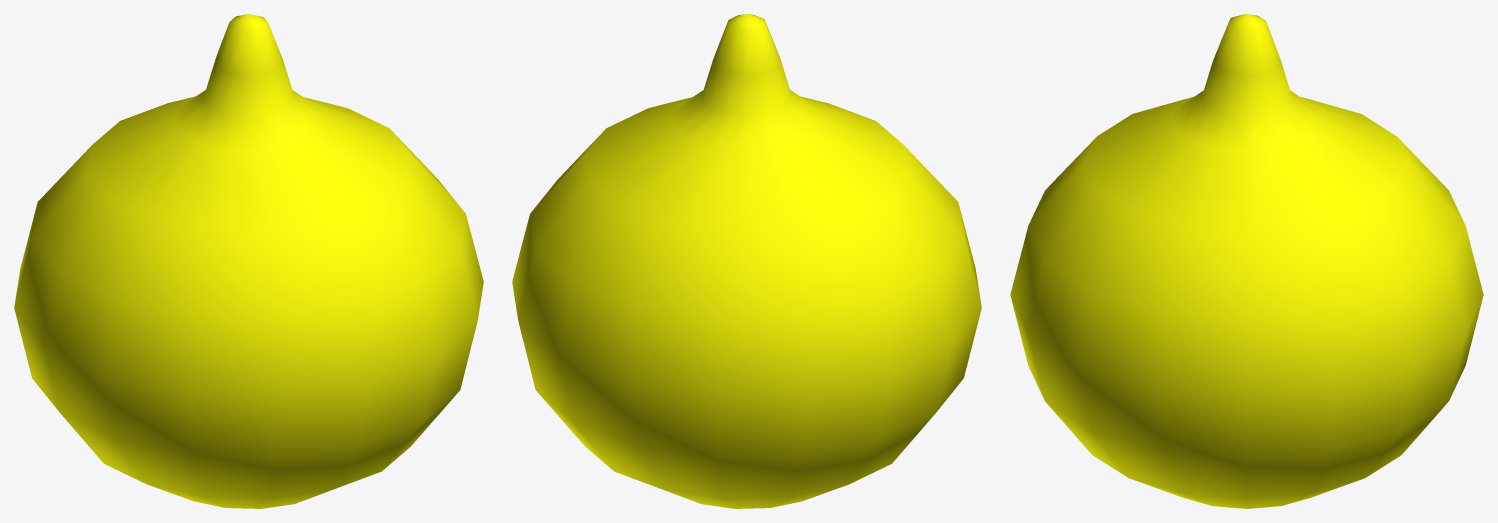
The model's file is food_ingredient_onion.gltf.
3 views of the same model, side by side, from view 1: azimuth 30°, elevation 25°; view 2: azimuth 150°, elevation 25°; view 3: azimuth 270°, elevation 25° (orthographic).
Visible parts, largest first — view 1: food_ingredient_onion; view 2: food_ingredient_onion; view 3: food_ingredient_onion.
Boxes of the visible parts, x1=… form: food_ingredient_onion: x1=14, y1=14, x2=483, y2=508; food_ingredient_onion: x1=512, y1=14, x2=981, y2=508; food_ingredient_onion: x1=1010, y1=14, x2=1483, y2=508.
Bounding box in the file's own units: 0.75 × 0.8624 × 0.75.
Materials: 1 (1 with a texture image).
